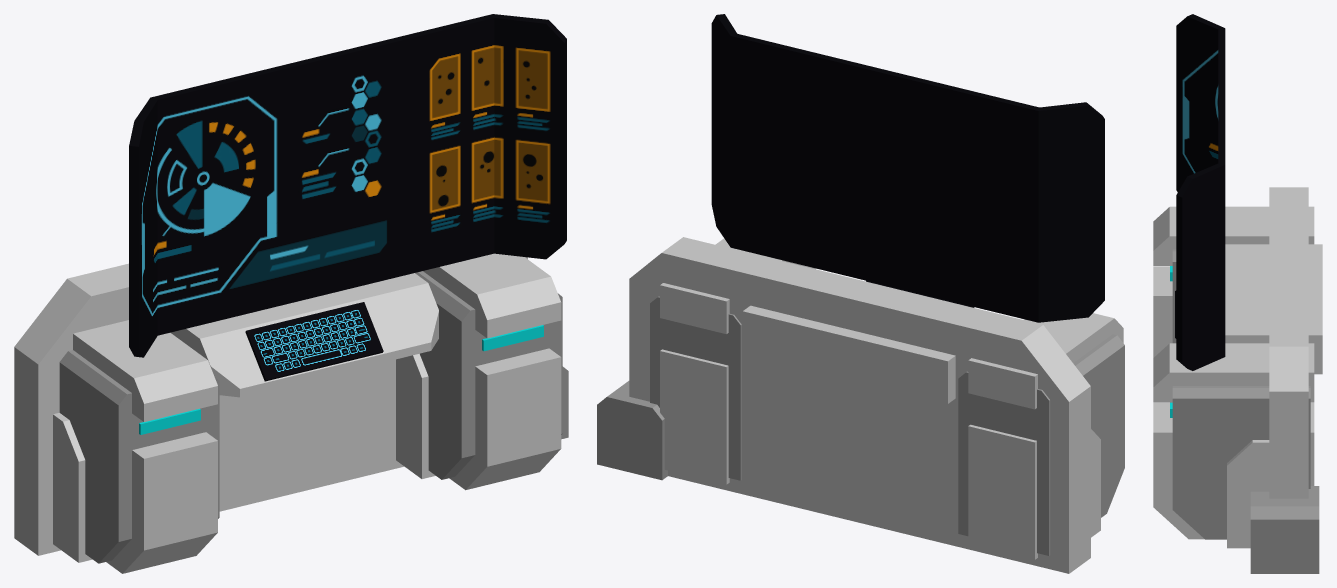
File: SM_Computer_Main_1.fbx
3 views of the same model, side by side, from view 1: azimuth 30°, elevation 25°; view 2: azimuth 150°, elevation 25°; view 3: azimuth 270°, elevation 25° (orthographic). The views are drawn at different scales.
Visible parts, largest first — view 1: SM_Computer_Main_1; view 2: SM_Computer_Main_1; view 3: SM_Computer_Main_1.
Part boxes in pixels (x1=…): SM_Computer_Main_1: x1=14, y1=14, x2=568, y2=573; SM_Computer_Main_1: x1=597, y1=14, x2=1124, y2=573; SM_Computer_Main_1: x1=1153, y1=14, x2=1322, y2=573.
Bounding box in the file's own units: 263 × 221 × 91.22.
